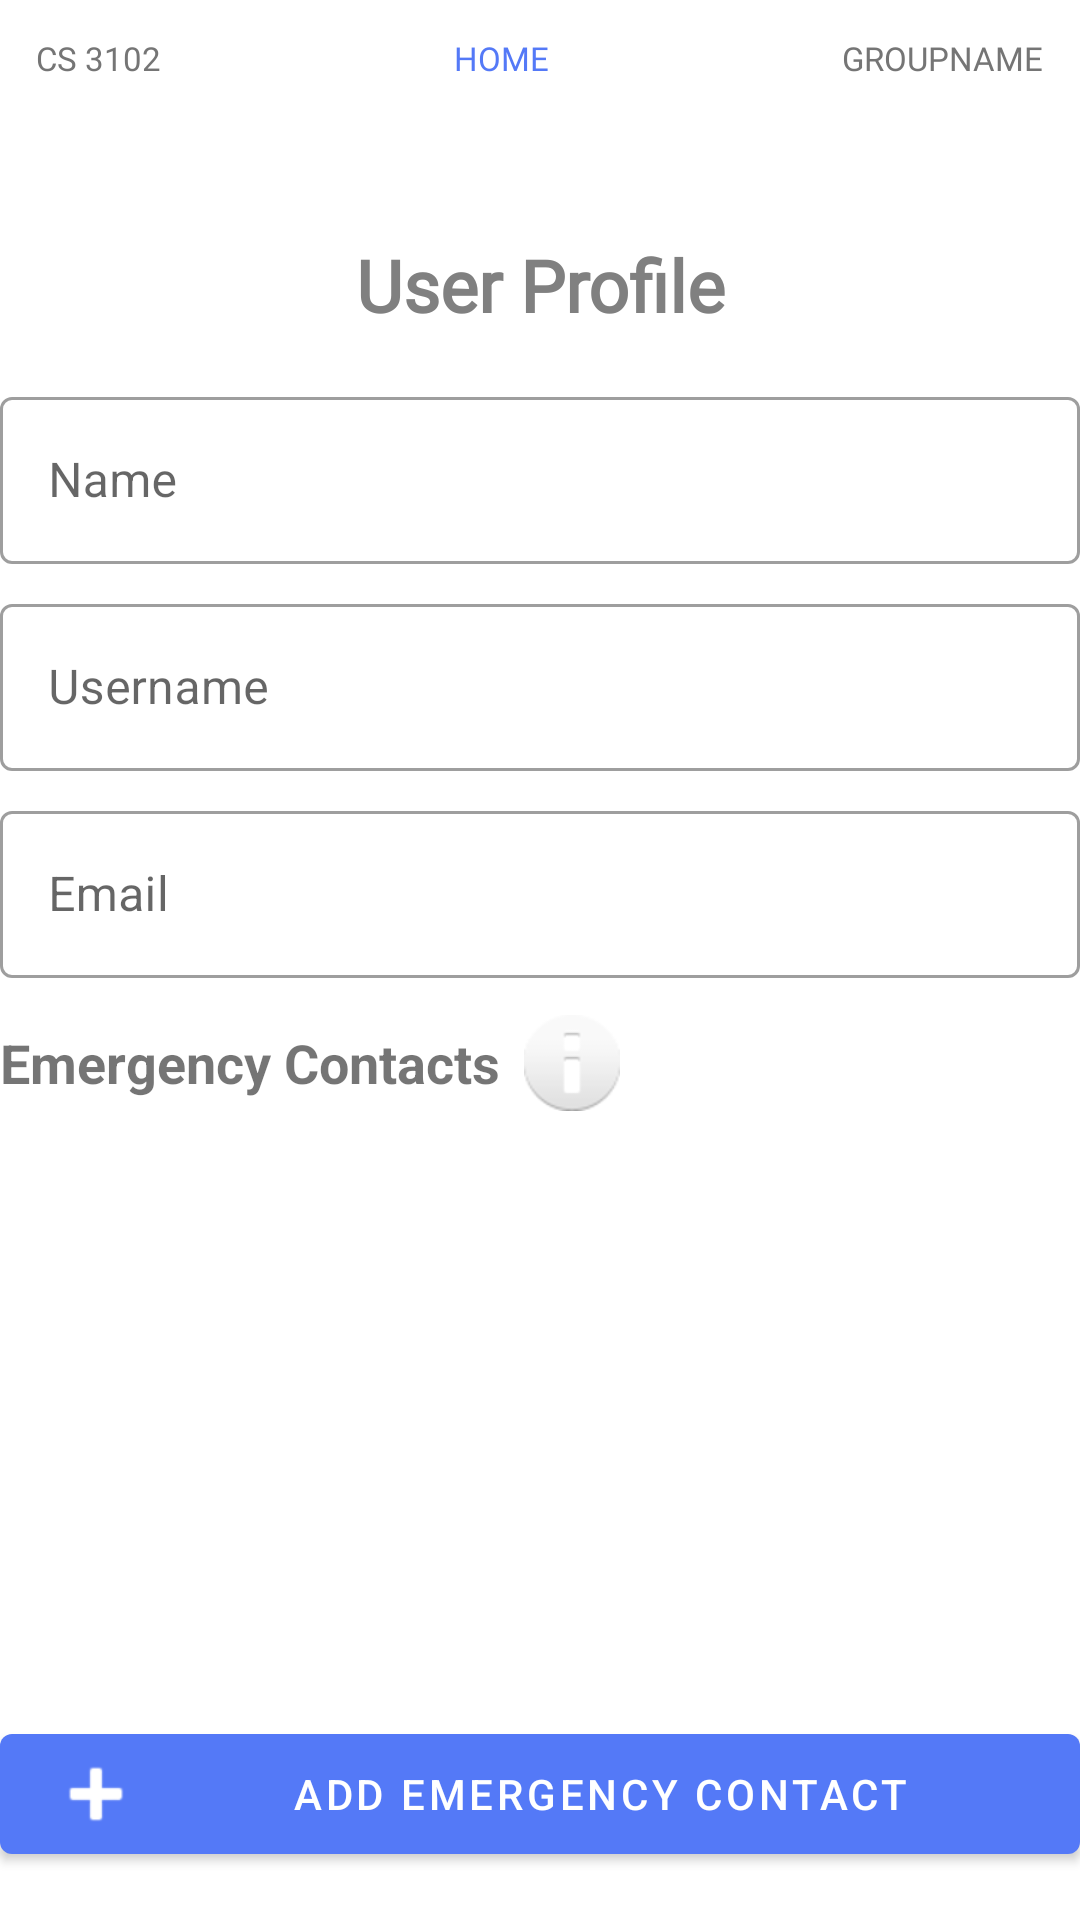

Named icons in this screenshot (1080px×1920px) and their centers, [x,y]:
info: [572,1072]
